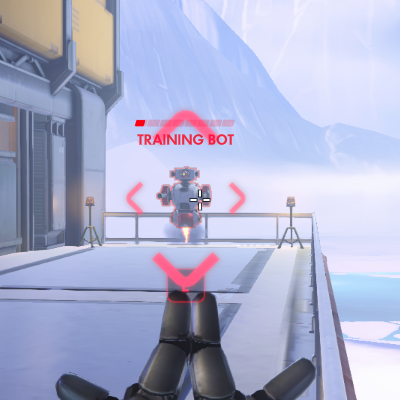hpbar: (134, 119, 235, 127)
